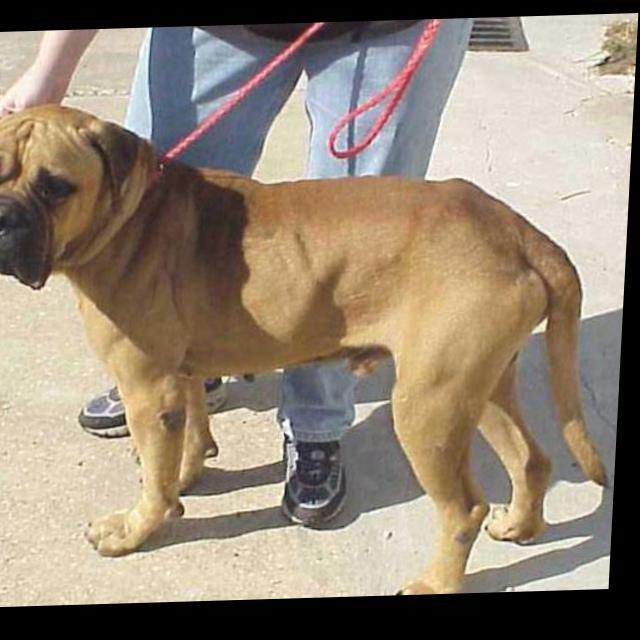bullmastiff: (1, 90, 632, 609)
person: (1, 22, 477, 539)
